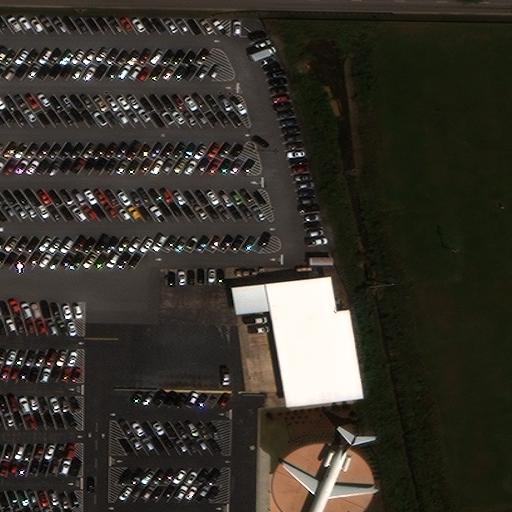Medium Civil Transport: (282, 434, 374, 512)
